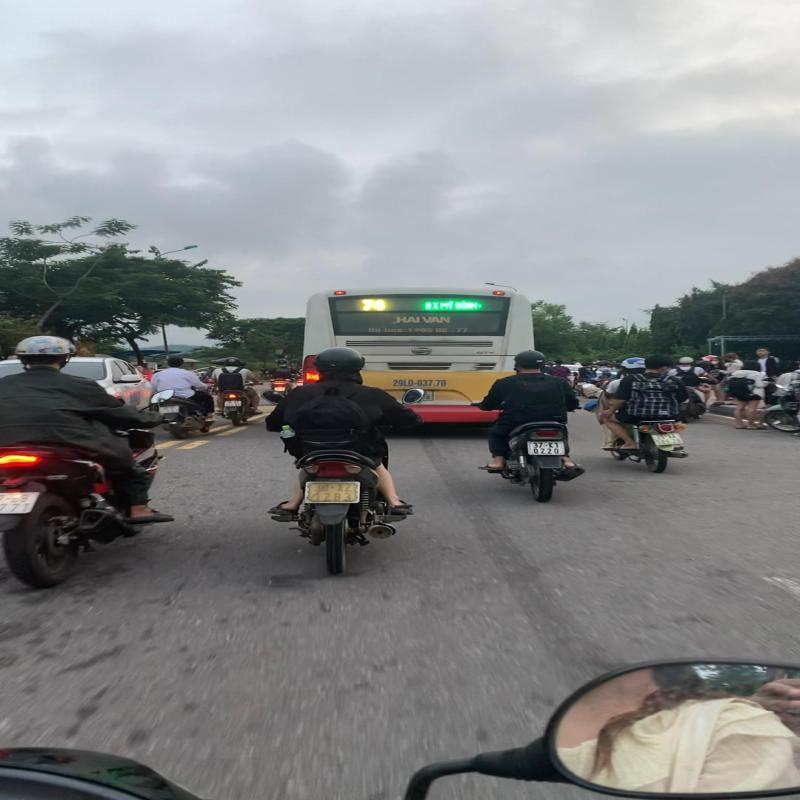helmet: (312, 348, 367, 372), (514, 349, 546, 369), (618, 356, 646, 370)
licenseplate: (300, 479, 364, 505), (525, 439, 568, 456), (650, 431, 686, 446)
motorcyclist: (260, 346, 428, 575), (466, 348, 586, 503), (590, 352, 694, 473)
nohelmet: (644, 355, 672, 370)
